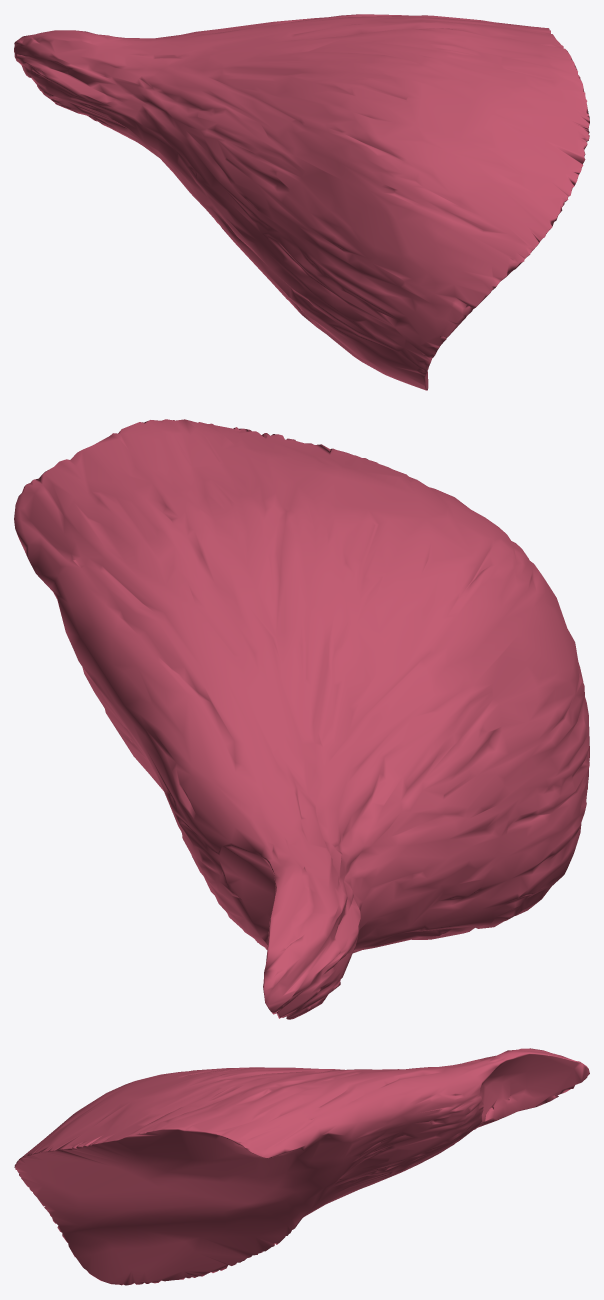
The picture shows the model from 3 angles, top to bottom: view 1: azimuth 30°, elevation 25°; view 2: azimuth 150°, elevation 25°; view 3: azimuth 270°, elevation 25°; orthographic projection. The views are drawn at different scales.
Visible parts, largest first — view 1: 右侧臀小肌; view 2: 右侧臀小肌; view 3: 右侧臀小肌.
Part boxes in pixels (x1,y1,x2,y2): 右侧臀小肌: (14, 14, 589, 390); 右侧臀小肌: (14, 419, 589, 1019); 右侧臀小肌: (14, 1048, 589, 1285).
Bounding box in the file's own units: 0.122 × 0.0895 × 0.1982.
